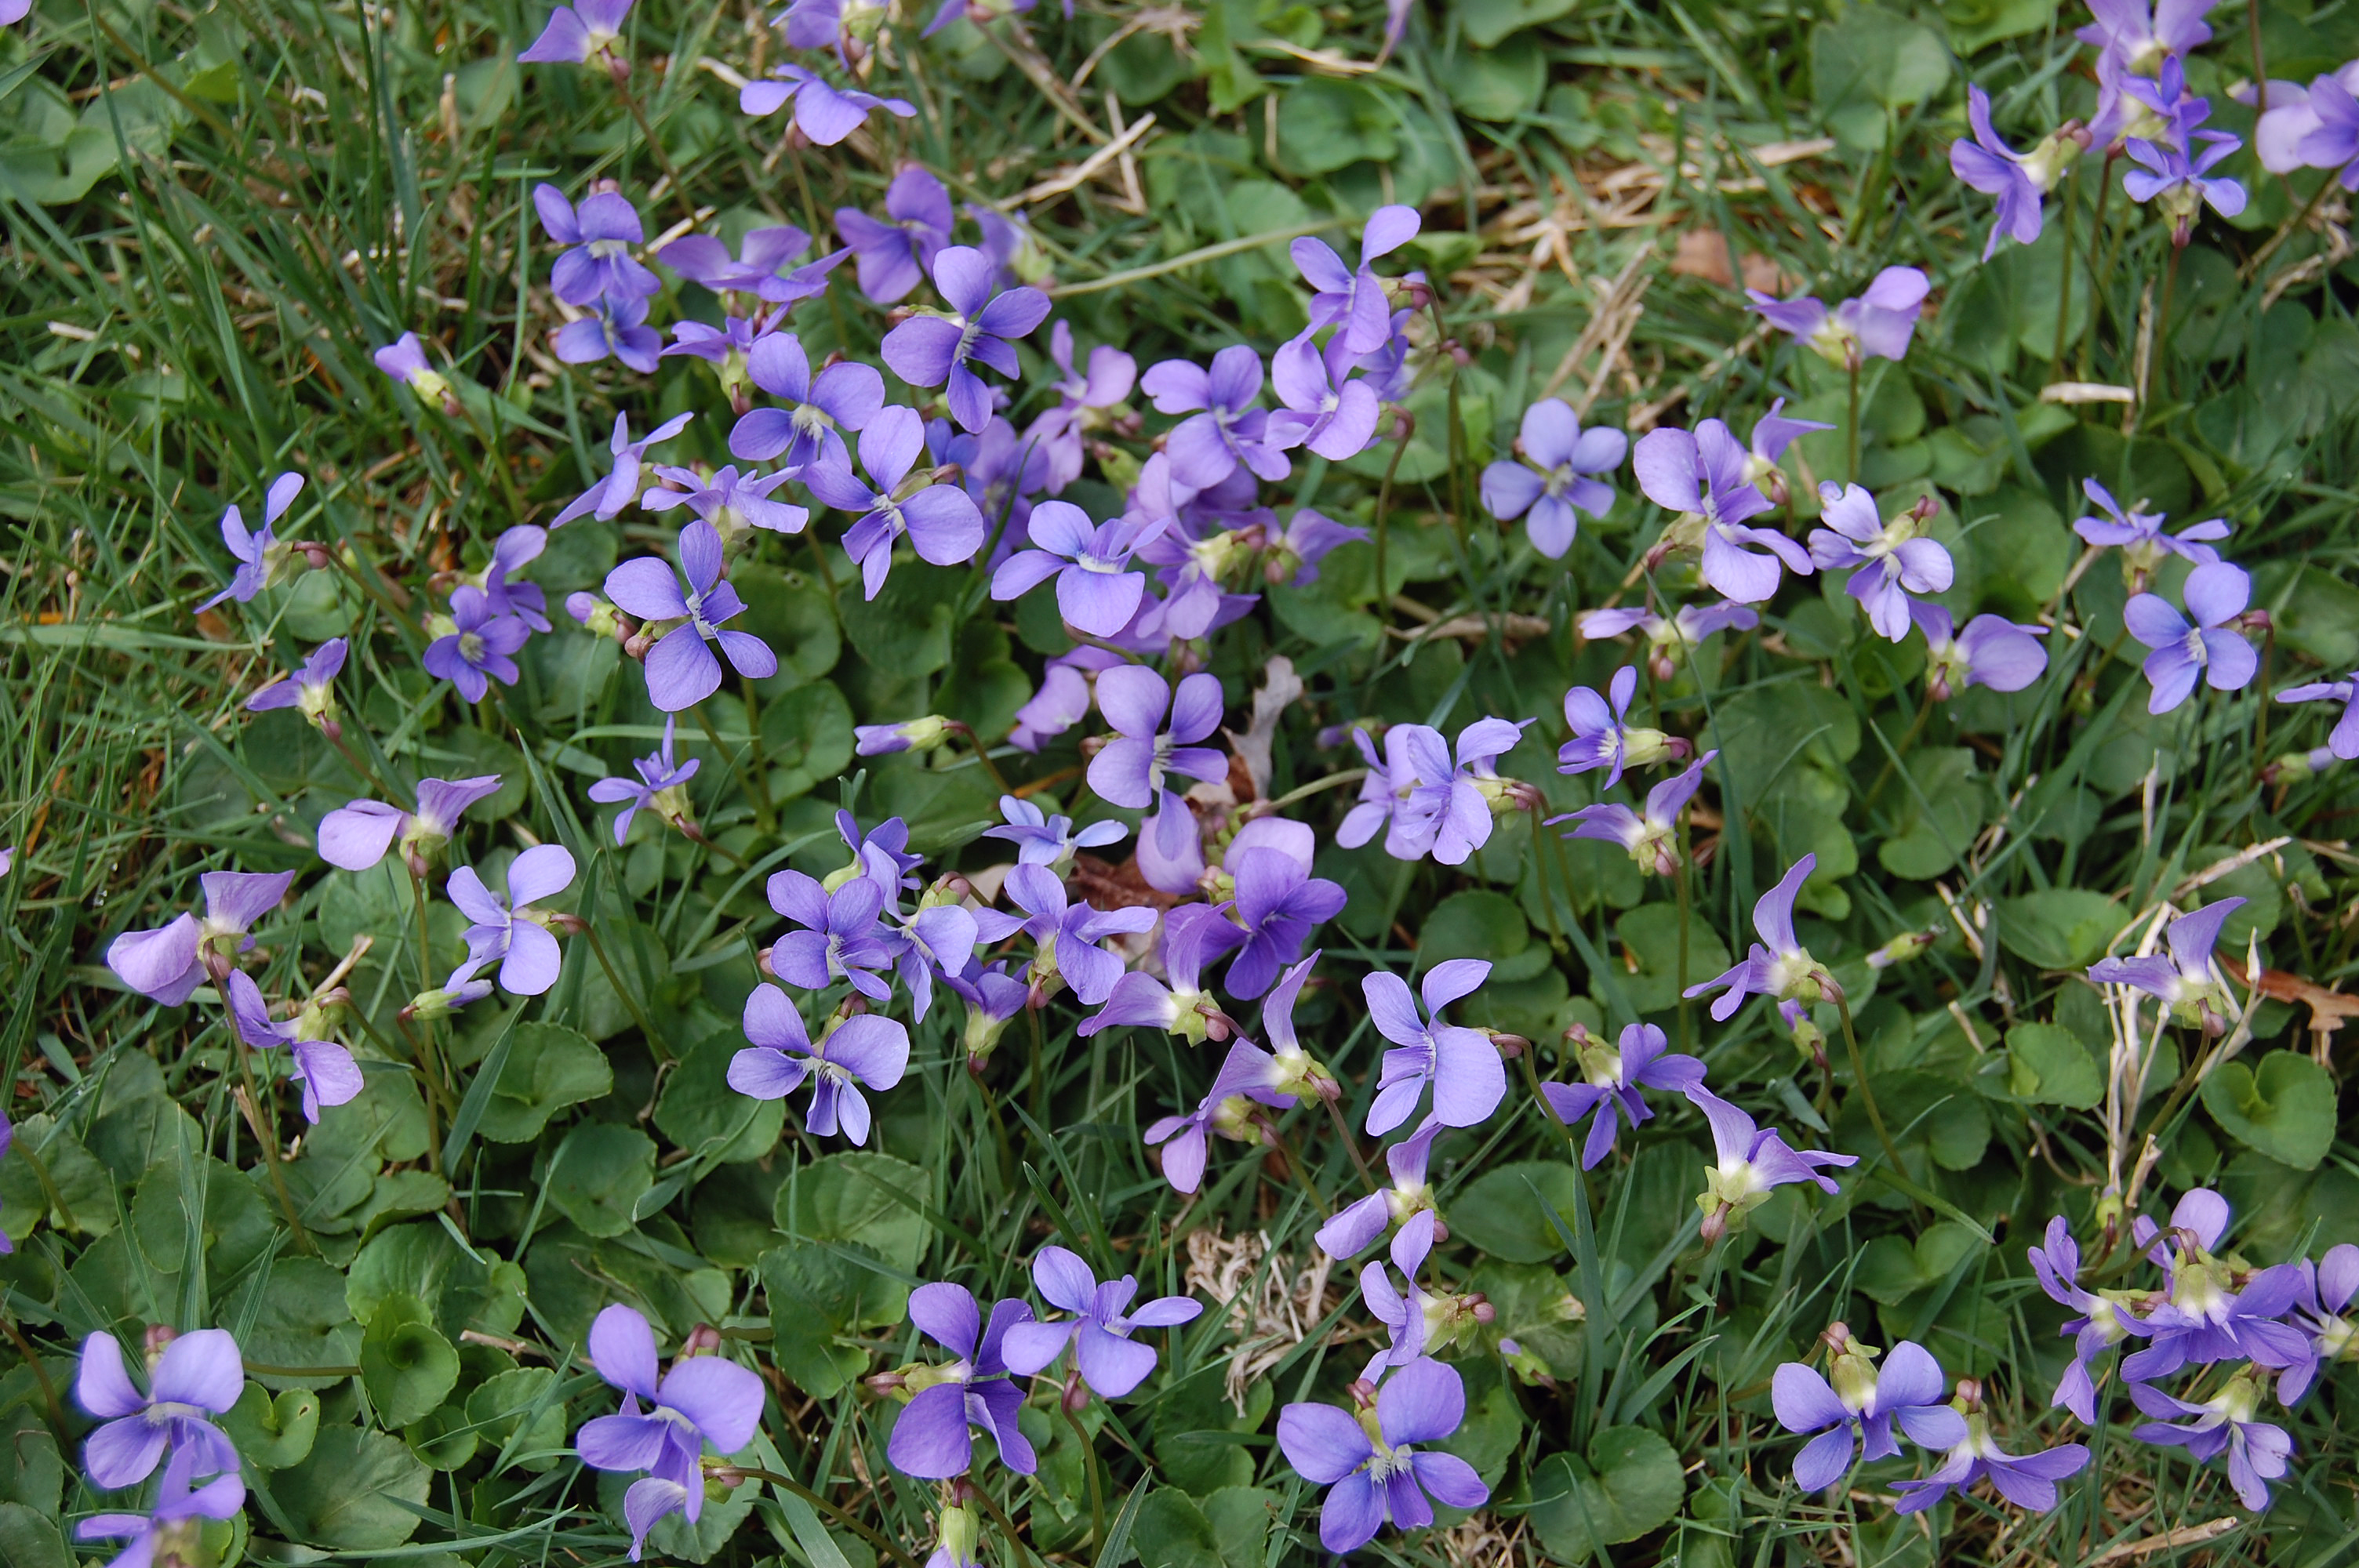violet: (252, 212, 2359, 1557)
